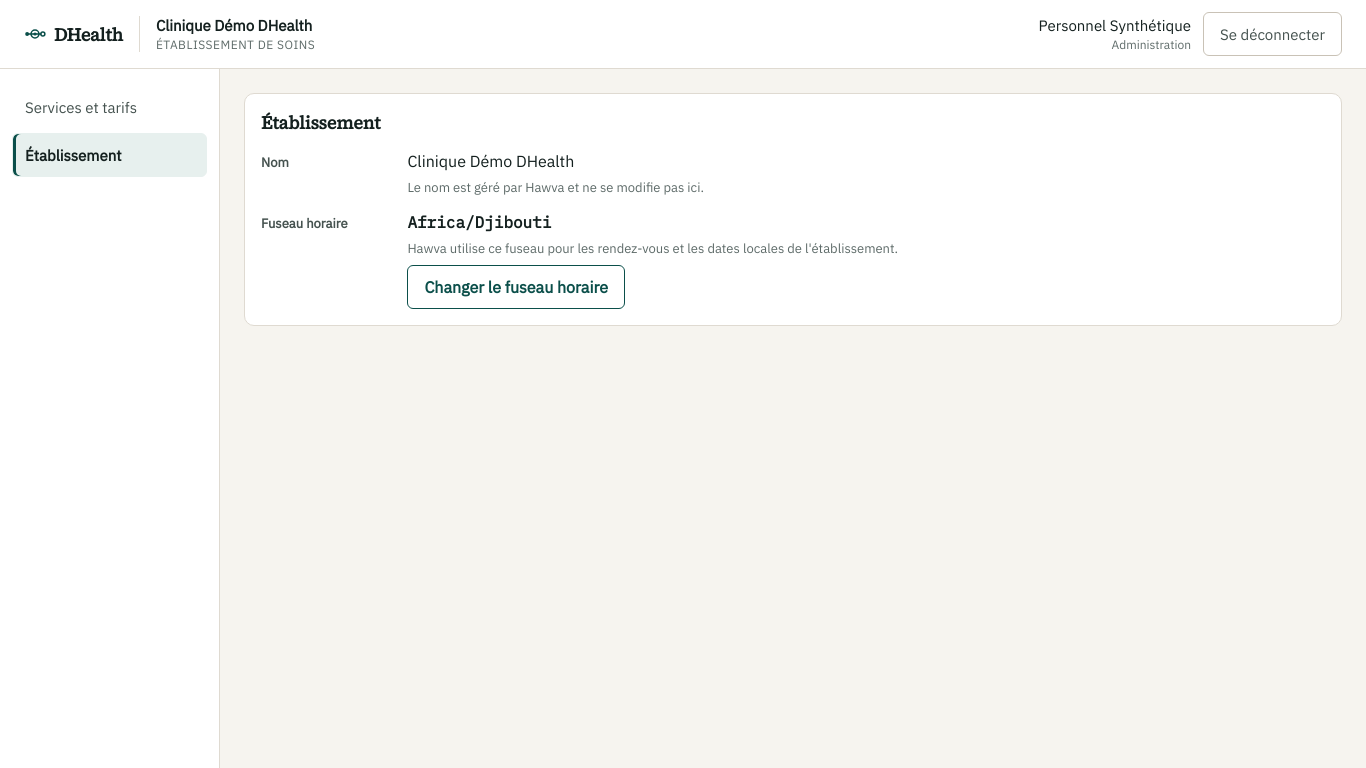
Test: changing the timezone › cannot be confirmed when the zone is unchanged
The image size is (1366, 768).
Expected: the heading "Établissement" is shown, [261,110,380,135]
Expected: the text "Africa/Djibouti" is shown, [407,212,551,232]
Click the button "Changer le fuseau horaire" at (516, 287), box [407,265,625,309]
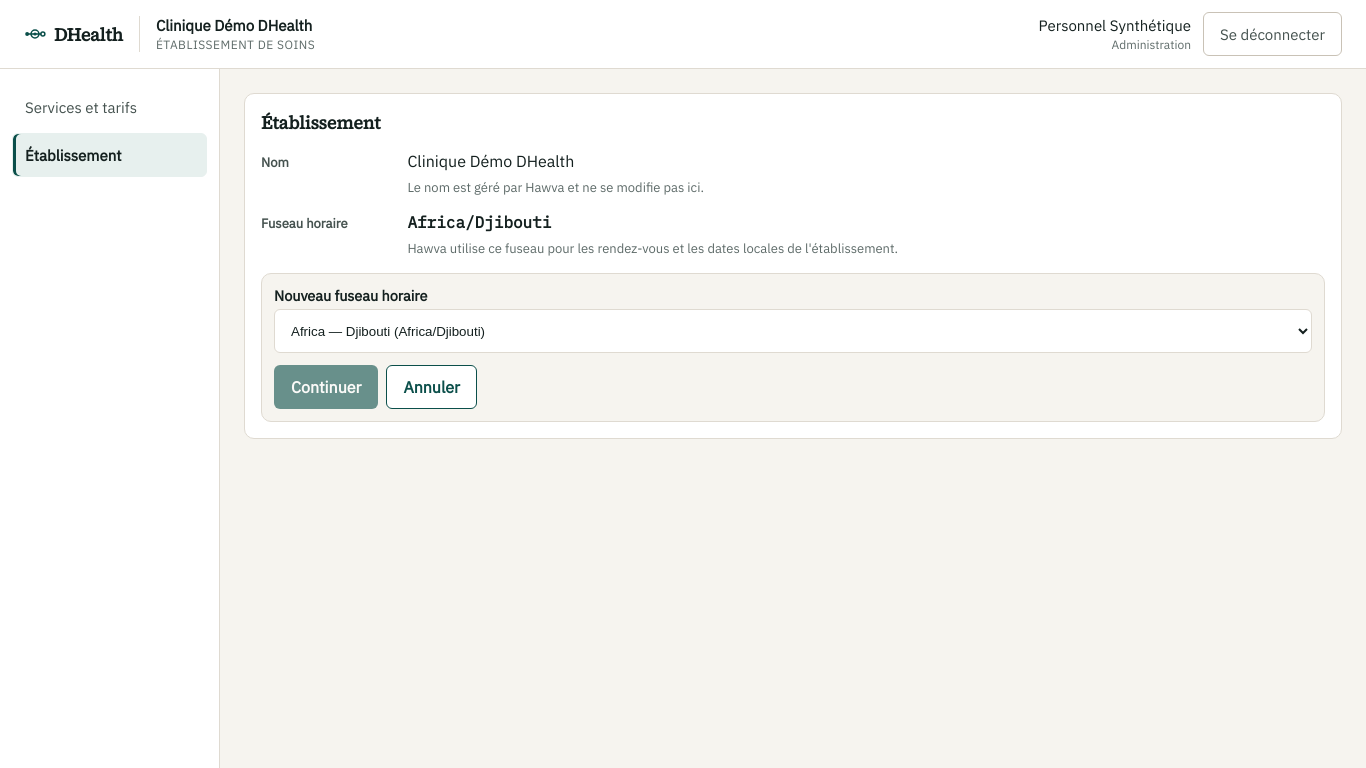
Result: the button "Continuer" is disabled at [274,365,378,409]
